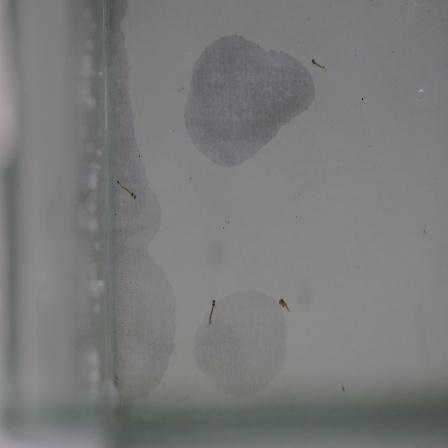Jentik-Nyamuk: (114, 174, 141, 204), (201, 291, 221, 326), (276, 293, 300, 321)
